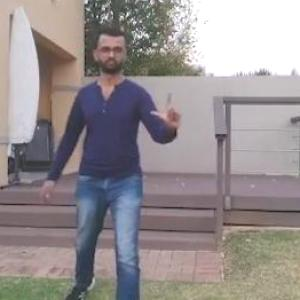land_hand: (149, 88, 188, 135)
